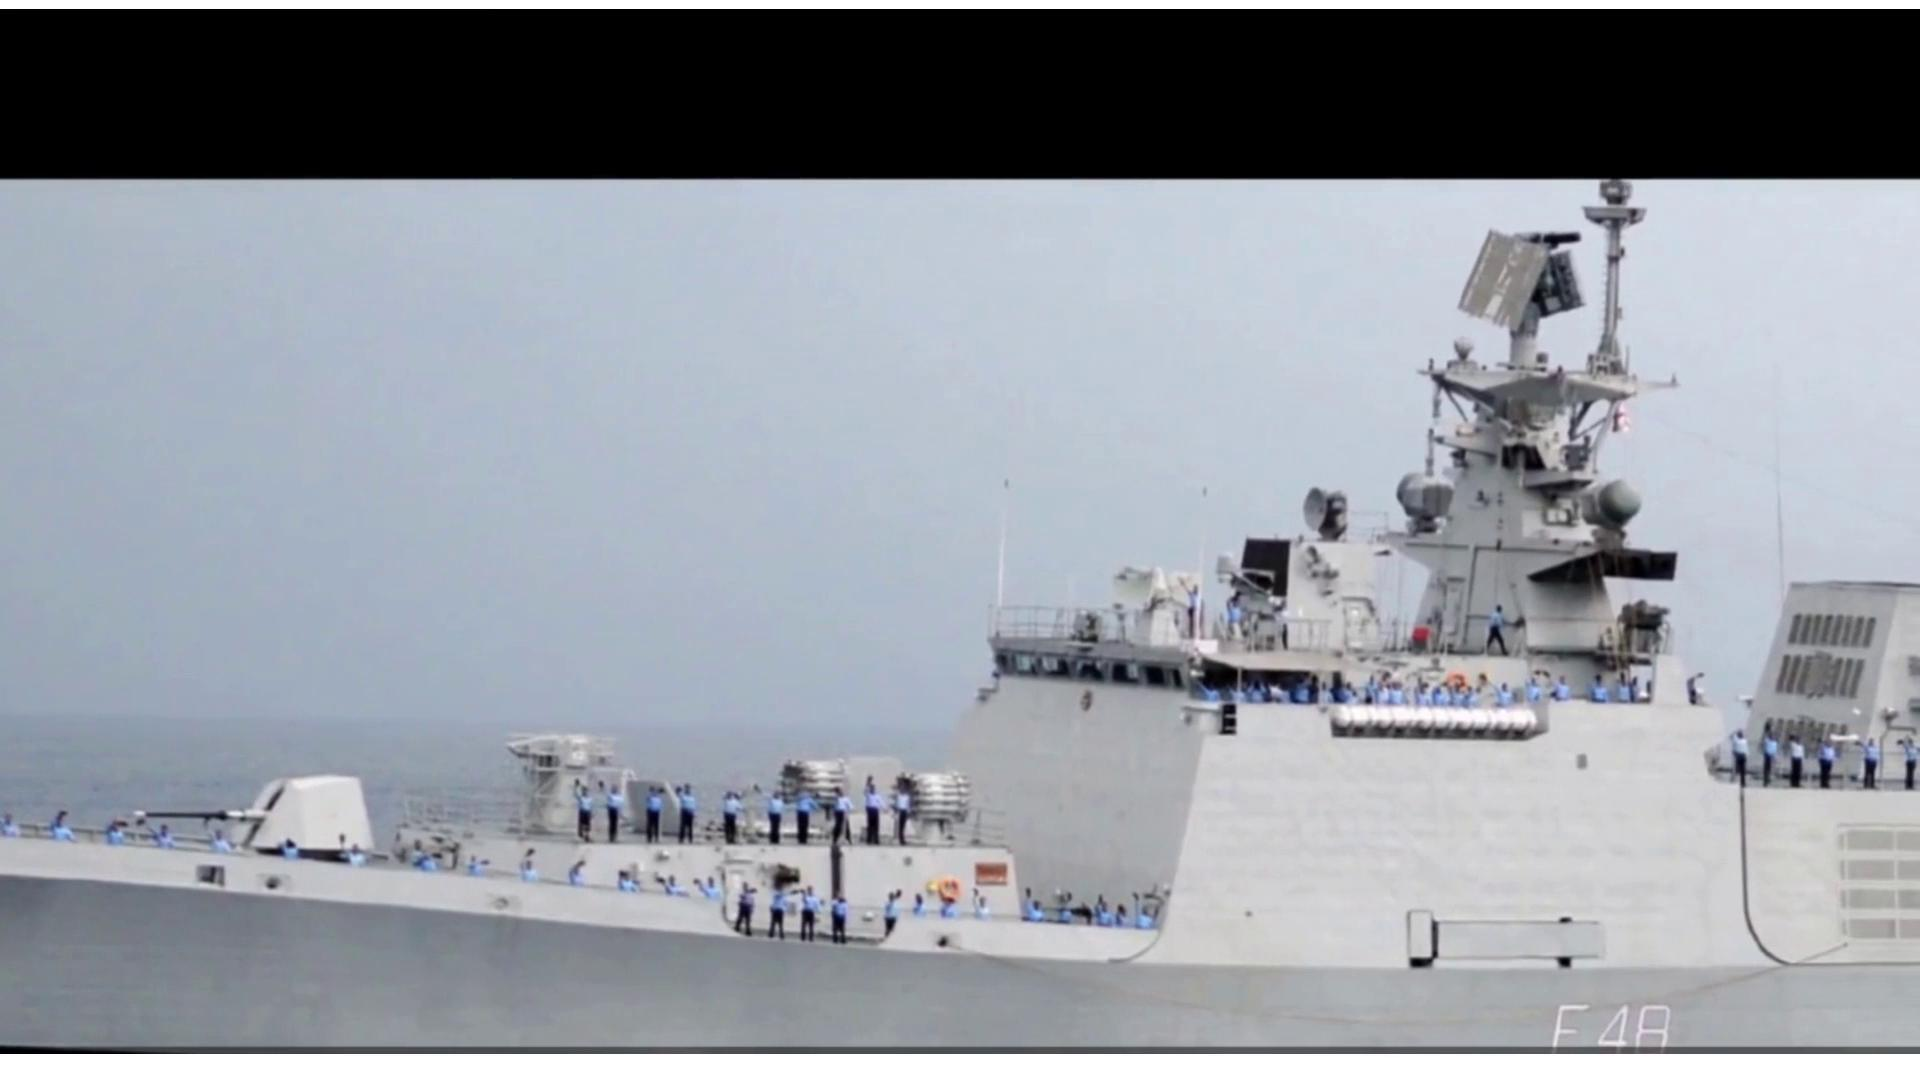OCR: (1523, 993, 1681, 1055)
